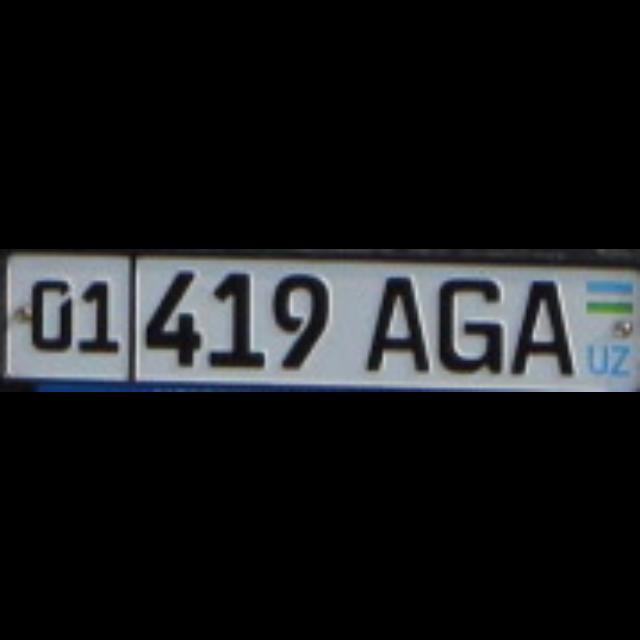0: (28, 276, 68, 348)
1: (203, 266, 260, 362), (76, 276, 114, 348)
4: (143, 266, 197, 362)
9: (268, 270, 326, 366)
A: (508, 272, 572, 370), (361, 270, 425, 366)
G: (433, 272, 501, 370)
